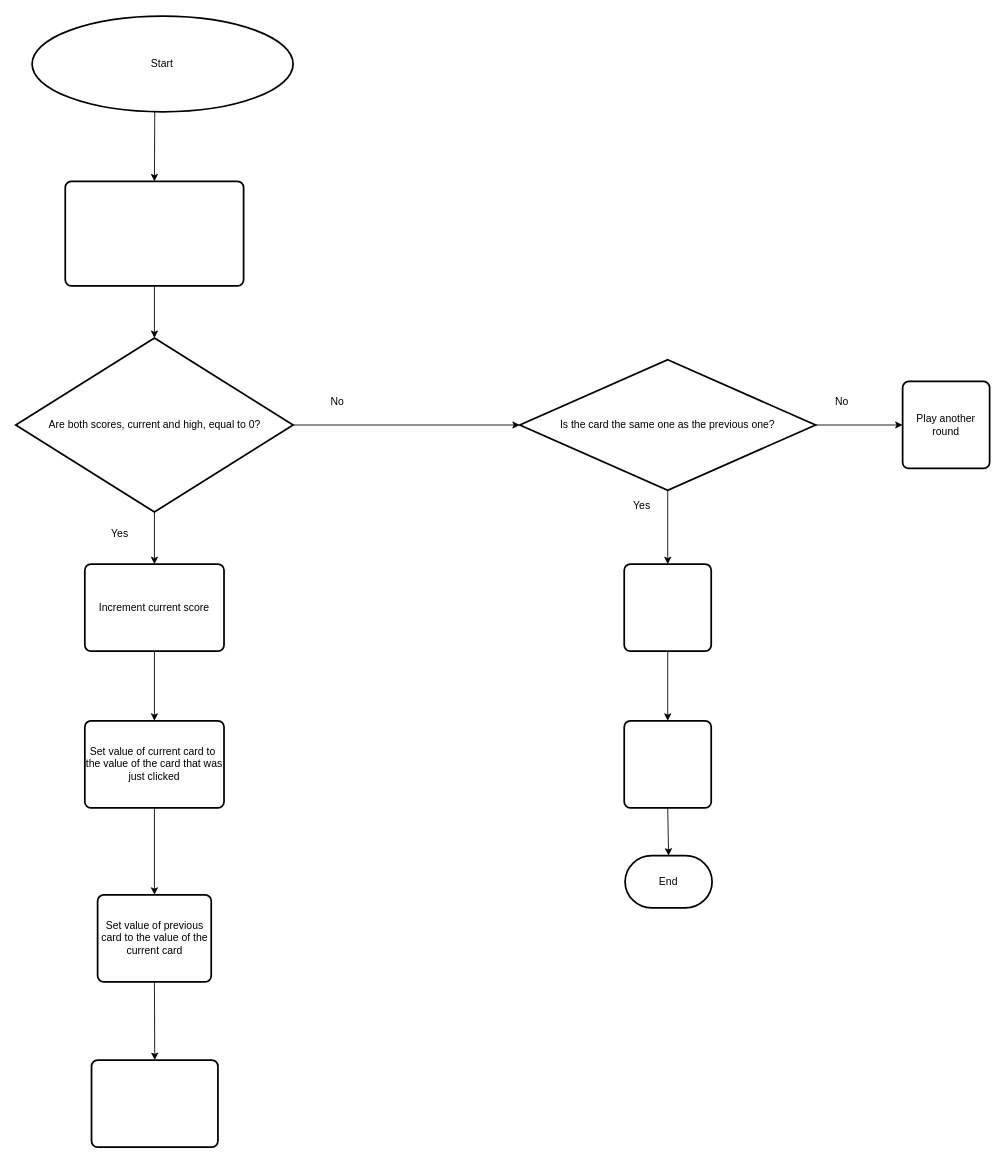
Some shapes in this 1006 by 1162 pixel diagram are drawn without their labels. The centre of each missing label's shape, as x and y in pixels:
"Display losing message" goes at (667,607).
"Set value of best score to the valueof the current score" goes at (667,763).
"Shuffle the cards, and play another round" goes at (154,1103).
"User clicks on a card" goes at (154,233).
